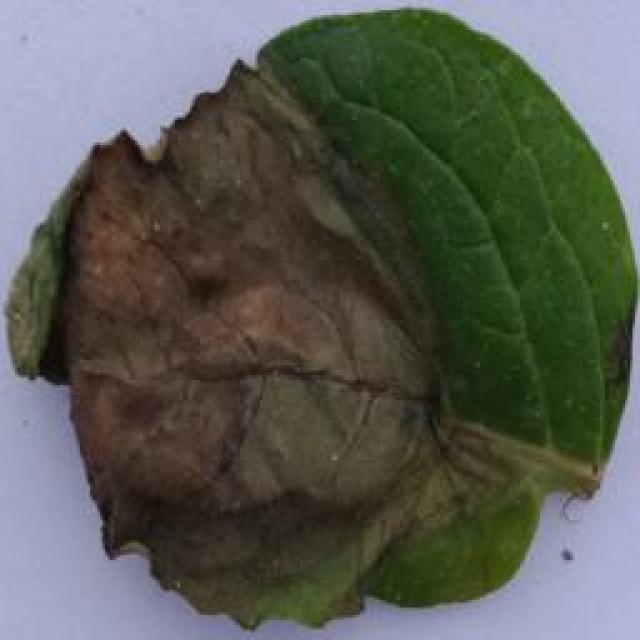Potato_Late_Blight: (2, 11, 624, 631)
